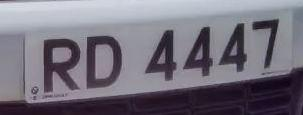4: (141, 23, 183, 88), (180, 17, 218, 85), (215, 15, 253, 76)
7: (248, 13, 284, 74)
D: (82, 31, 128, 93)
R: (36, 33, 84, 95)
